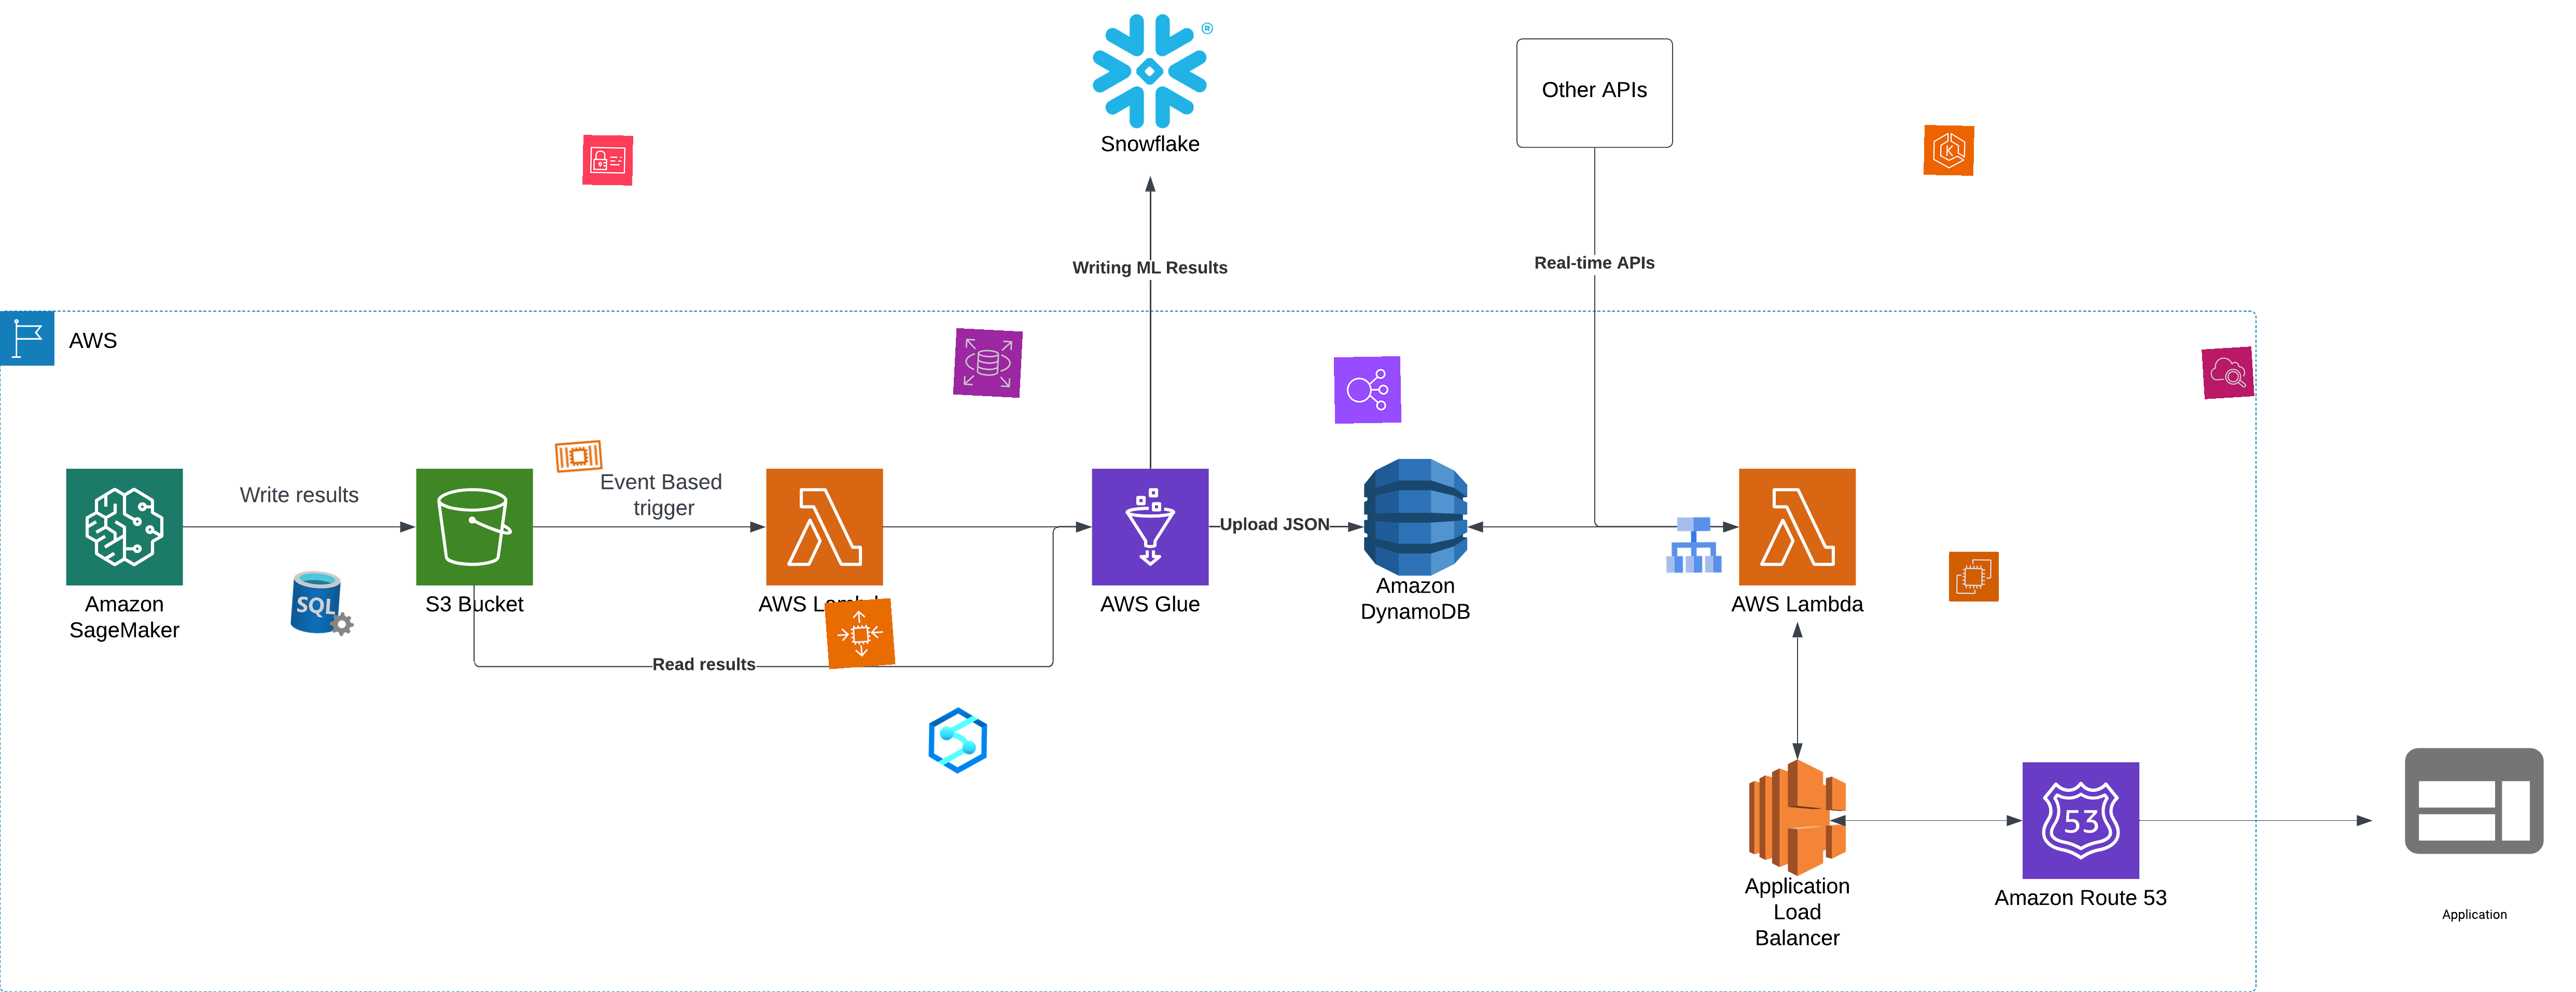aws_amazon_cloudwatch: (2201, 347, 2254, 399)
aws_amazon_ec2: (1948, 552, 1999, 603)
aws_amazon_ec2_auto_scaling: (825, 598, 895, 670)
aws_amazon_elastic_kubernetes_service: (1924, 125, 1975, 176)
aws_amazon_rds: (953, 328, 1024, 397)
aws_elastic_container_service_container_2: (552, 429, 606, 483)
aws_elastic_load_balancing: (1334, 356, 1401, 424)
aws_identity_and_access_management: (583, 135, 632, 186)
azure_sql_server: (287, 567, 360, 639)
azure_synapse_analytics: (925, 706, 992, 774)
gcp_cloud_load_balancing: (1661, 511, 1728, 578)
